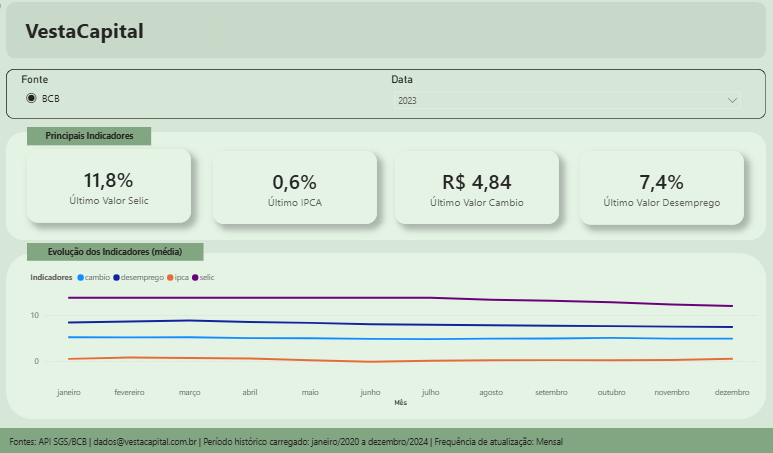

The page's visual inventory and layout, read from the dashboard file:
{"tool":"powerbi","page":{"name":"Evolução Mensal / Últimos indicadores","canvas":[1280,720],"ordinal":0},"visuals":[{"type":"actionButton","box":[0,0,100,40],"z":0},{"type":"shape","box":[43,405.7,1188.4,259.7],"z":1000},{"type":"lineChart","title":"Evolução dos indicadores (média)","fields":{"Category":["public vw_indicadores.data_referencia.Variation.Hierarquia de datas.Mês"],"Series":["public vw_indicadores.indicador"],"Y":["Avg(public vw_indicadores.valor)"]},"box":[77,425.4,1144.5,225.7],"z":2000},{"type":"shape","box":[43,216.7,1188.4,169.3],"z":3000},{"type":"cardVisual","title":"Último valor Cambio","fields":{"Data":["public vw_indicadores.Medida_Final_Indicador"]},"box":[651.9,247.1,256.1,113.7],"z":4000},{"type":"cardVisual","title":" Último valor Desemprego","fields":{"Data":["public vw_indicadores.Medida_Final_Indicador"]},"box":[940.3,246.2,256.1,114.6],"z":5000},{"type":"cardVisual","title":"Último IPCA","fields":{"Data":["public vw_indicadores.Medida_Final_Indicador"]},"box":[367.2,246.2,256.1,113.7],"z":6000},{"type":"cardVisual","title":" Último valor Selic","fields":{"Data":["public vw_indicadores.Ultimo_Valor_Indicador"]},"box":[77,244.4,256.1,114.6],"z":7000},{"type":"shape","box":[44.2,14.7,1187.7,88.4],"z":8000},{"type":"textbox","box":[68.8,29.5,298.6,58.9],"z":9000},{"type":"shape","box":[77,209.5,194.3,28.7],"z":10000},{"type":"textbox","box":[76.6,209.6,194.5,28.5],"z":11000},{"type":"shape","box":[76.1,391.3,275.8,27.8],"z":12000},{"type":"textbox","box":[77,391.3,274.9,27.8],"z":13000},{"type":"shape","box":[0,679.7,1279.7,40.3],"z":14000},{"type":"textbox","box":[43.9,686.9,1194.6,26.9],"z":15000},{"type":"shape","box":[43.9,119.1,1187.5,77.9],"z":15500},{"type":"slicer","title":"Data","fields":{"Values":["public vw_indicadores.data_referencia.Variation.Hierarquia de datas.Ano","public vw_indicadores.data_referencia.Variation.Hierarquia de datas.Mês"]},"box":[641.2,125.4,560.6,65.4],"z":16000},{"type":"slicer","title":"Fonte","fields":{"Values":["public vw_indicadores.fonte"]},"box":[62.7,125.4,577.6,64.5],"z":16001}]}

Visuals, with their boxes on the page's 1280x720 design canvas (x1, y1, x2, y2). These are canvas units, not pixel positions in the 773x453 screenshot, which may show the page scaled, cropped or inside an application window:
actionButton: 0/0/100/40
shape: 43/406/1231/665
"Evolução dos indicadores (média)" lineChart: 77/425/1222/651
shape: 43/217/1231/386
"Último valor Cambio" cardVisual: 652/247/908/361
" Último valor Desemprego" cardVisual: 940/246/1196/361
"Último IPCA" cardVisual: 367/246/623/360
" Último valor Selic" cardVisual: 77/244/333/359
shape: 44/15/1232/103
textbox: 69/30/367/88
shape: 77/210/271/238
textbox: 77/210/271/238
shape: 76/391/352/419
textbox: 77/391/352/419
shape: 0/680/1280/720
textbox: 44/687/1238/714
shape: 44/119/1231/197
"Data" slicer: 641/125/1202/191
"Fonte" slicer: 63/125/640/190
